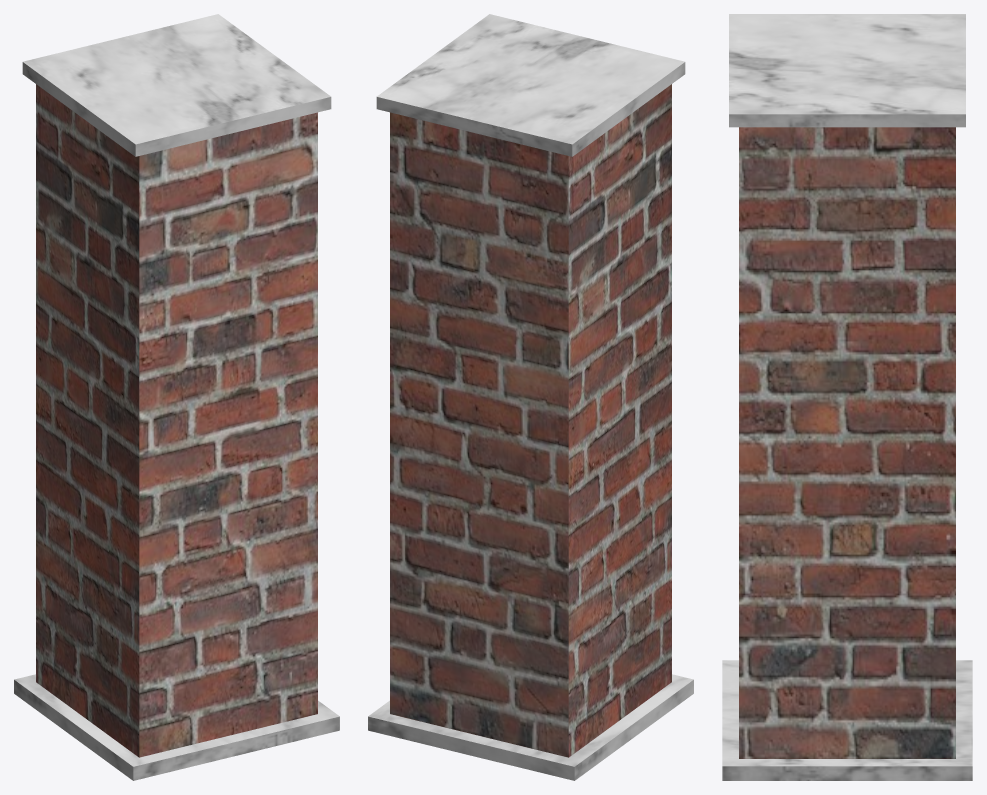
The model's file is pilastra 1.fbx.
3 views of the same model, side by side, from view 1: azimuth 30°, elevation 25°; view 2: azimuth 150°, elevation 25°; view 3: azimuth 270°, elevation 25° (orthographic). The views are drawn at different scales.
Parts seen in each view (by area): view 1: Plane; view 2: Plane; view 3: Plane.
Part boxes in pixels (left/top/right/bottom): Plane: left=14, top=14, right=339, bottom=780; Plane: left=368, top=14, right=693, bottom=780; Plane: left=722, top=14, right=972, bottom=780.
Size of the model in its own units: 231 by 676 by 231.
